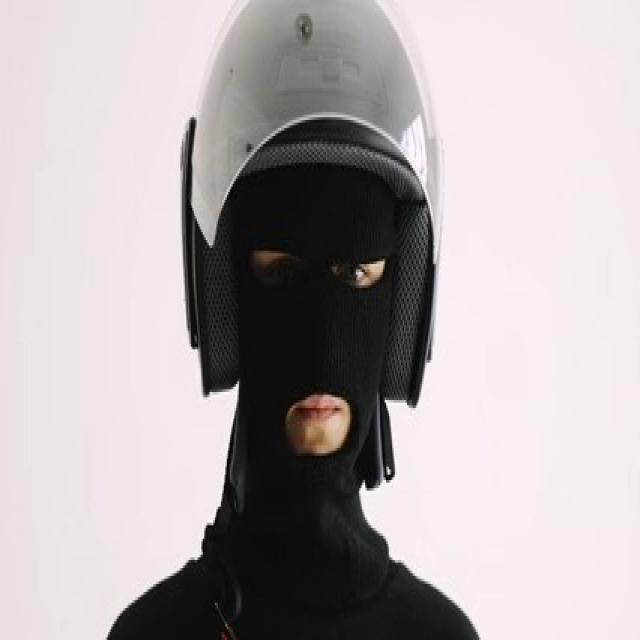Helmet_Wearer: (148, 0, 460, 633)
Person: (105, 0, 485, 640)
